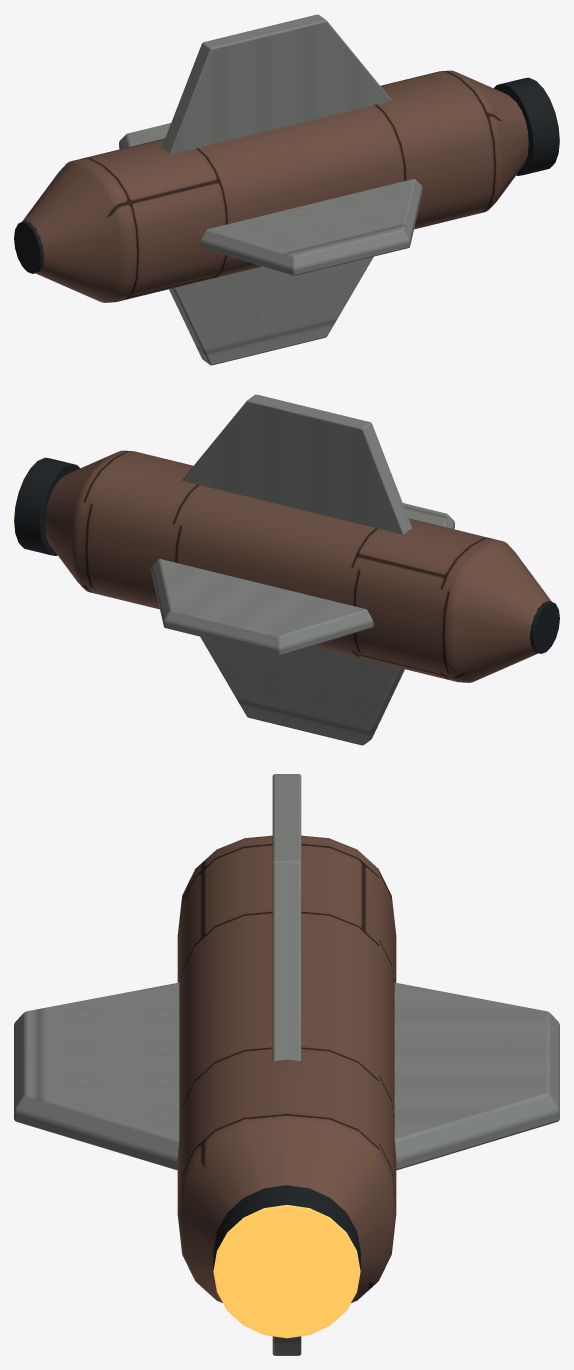
Rendered from mothlight_lamp.glb.
3 views of the same model, one above another, from view 1: azimuth 30°, elevation 25°; view 2: azimuth 150°, elevation 25°; view 3: azimuth 270°, elevation 25° (orthographic). The views are drawn at different scales.
Parts seen in each view (by area): view 1: LOD0_Armor, LOD0_Ceramic, LOD0_MechanicalDark; view 2: LOD0_Armor, LOD0_Ceramic, LOD0_MechanicalDark; view 3: LOD0_Armor, LOD0_Ceramic, LOD0_Beacon_Amber, LOD0_MechanicalDark.
Boxes of the visible parts, box(x1,y1,x2,y2) form: LOD0_Armor: box(22, 70, 528, 302); LOD0_Ceramic: box(119, 14, 422, 365); LOD0_MechanicalDark: box(14, 77, 559, 273); LOD0_Armor: box(45, 450, 551, 682); LOD0_Ceramic: box(151, 394, 454, 745); LOD0_MechanicalDark: box(14, 457, 559, 653); LOD0_Armor: box(177, 835, 396, 1302); LOD0_Ceramic: box(14, 774, 559, 1355); LOD0_Beacon_Amber: box(213, 1205, 360, 1338); LOD0_MechanicalDark: box(213, 1185, 360, 1290).
Size of what is drawn, in the model's own units: 2.86 by 1.7 by 1.7.
4 materials, 3 textured.
